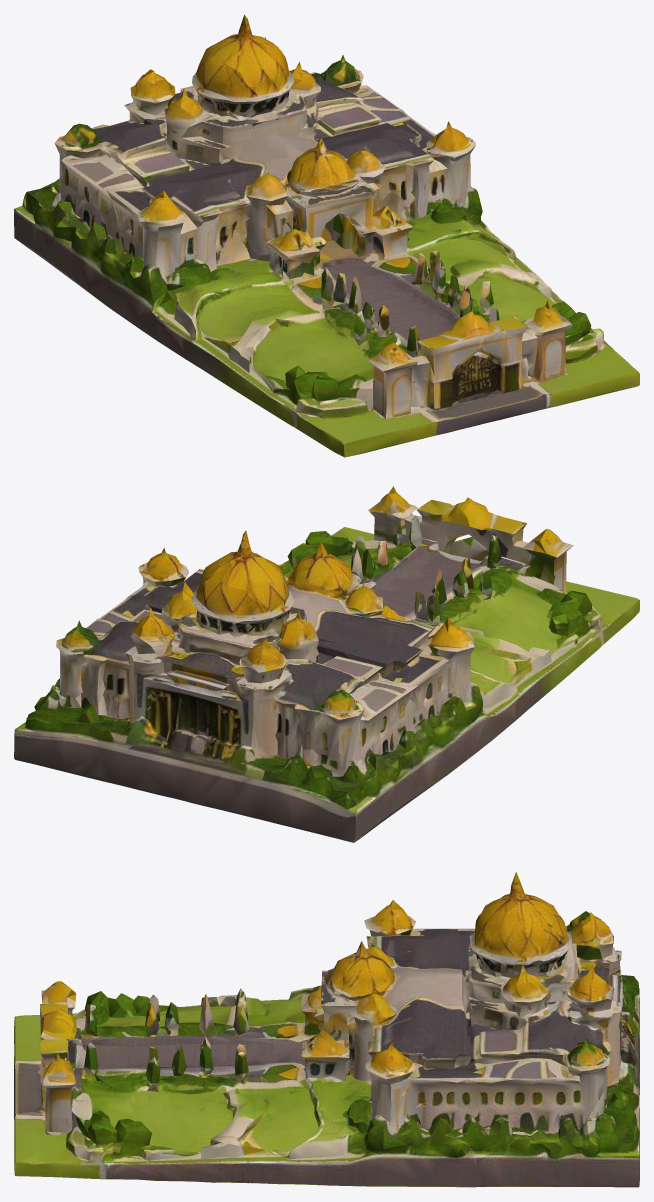
Rendered from istana-negara.glb.
3 views of the same model, one above another, from view 1: azimuth 30°, elevation 25°; view 2: azimuth 150°, elevation 25°; view 3: azimuth 270°, elevation 25° (orthographic).
Visible parts, largest first — view 1: logan-textured.obj; view 2: logan-textured.obj; view 3: logan-textured.obj.
Part boxes in pixels (left/top/right/bottom): logan-textured.obj: left=14, top=15, right=639, bottom=457; logan-textured.obj: left=14, top=486, right=639, bottom=842; logan-textured.obj: left=14, top=872, right=639, bottom=1187.
Bounding box in the file's own units: 0.648 × 0.4079 × 1.
Materials: 1 (1 with a texture image).
